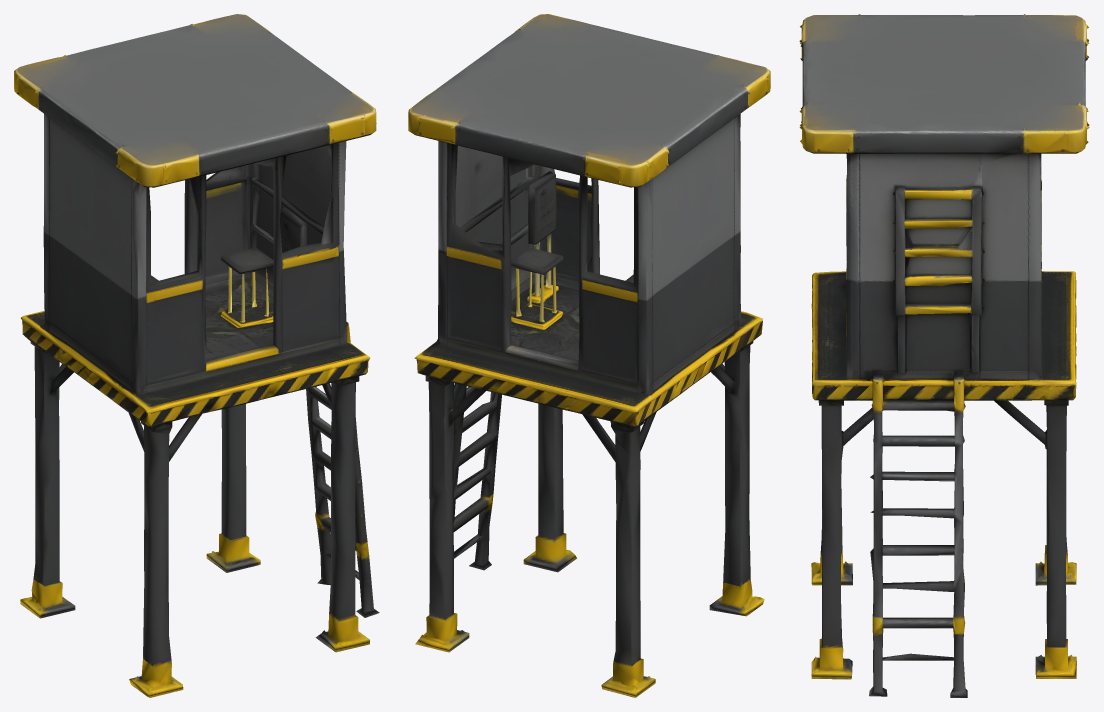
The model's file is industrial guard tower 3d model.glb.
The picture shows the model from 3 angles, left to right: view 1: azimuth 30°, elevation 25°; view 2: azimuth 150°, elevation 25°; view 3: azimuth 270°, elevation 25°; orthographic projection. The views are drawn at different scales.
Visible parts, largest first — view 1: tripo_node_ef424493-d619-4883-a2b2-1b1aa26c1c36; view 2: tripo_node_ef424493-d619-4883-a2b2-1b1aa26c1c36; view 3: tripo_node_ef424493-d619-4883-a2b2-1b1aa26c1c36.
Part boxes in pixels (<box>): tripo_node_ef424493-d619-4883-a2b2-1b1aa26c1c36: <box>14,14,379,697</box>; tripo_node_ef424493-d619-4883-a2b2-1b1aa26c1c36: <box>408,14,770,697</box>; tripo_node_ef424493-d619-4883-a2b2-1b1aa26c1c36: <box>799,14,1089,697</box>.
Bounding box in the file's own units: 0.524 × 1 × 0.4756.
1 material, 1 textured.
